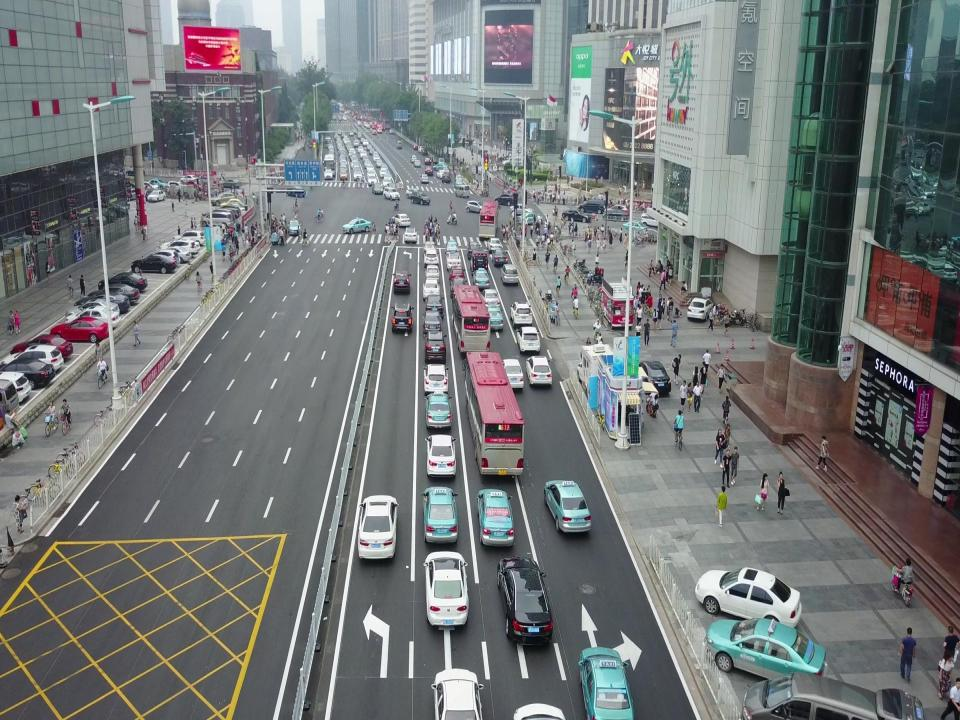bus: (461, 349, 525, 478), (450, 283, 490, 354), (478, 199, 500, 239)
car: (703, 616, 829, 686), (736, 675, 926, 720), (692, 566, 804, 632), (497, 556, 555, 648), (577, 646, 637, 720), (424, 549, 472, 629), (356, 493, 400, 563), (432, 665, 485, 720), (543, 480, 593, 534), (475, 487, 517, 547), (420, 485, 462, 544), (0, 356, 56, 389), (1, 344, 65, 371), (9, 334, 75, 359), (50, 316, 111, 343), (424, 432, 458, 478), (64, 305, 122, 328), (73, 290, 131, 312), (64, 298, 120, 320), (638, 360, 672, 395), (86, 283, 140, 305), (424, 391, 454, 430), (0, 370, 32, 406), (98, 270, 148, 292), (130, 253, 177, 275), (525, 354, 554, 386), (422, 362, 450, 393), (499, 357, 525, 390), (138, 250, 180, 268), (152, 246, 192, 264), (391, 301, 413, 333), (516, 326, 542, 353), (509, 301, 535, 328), (686, 296, 714, 321), (391, 268, 412, 295), (160, 238, 201, 251), (485, 304, 505, 330), (341, 216, 373, 232), (422, 311, 442, 336), (424, 293, 444, 317), (173, 231, 207, 245), (480, 288, 503, 308), (500, 262, 520, 285), (472, 267, 491, 289), (421, 279, 441, 299), (423, 249, 441, 269), (410, 190, 432, 205), (403, 225, 419, 245), (465, 200, 489, 213), (451, 276, 467, 294), (446, 251, 462, 268), (486, 236, 504, 251), (392, 212, 410, 227), (382, 186, 401, 200), (492, 250, 508, 266), (286, 186, 306, 197), (446, 240, 460, 253), (423, 239, 437, 251), (372, 182, 384, 195), (432, 163, 448, 170), (424, 165, 434, 176), (419, 174, 429, 184), (442, 172, 452, 182), (436, 169, 446, 179), (455, 179, 463, 189), (424, 156, 432, 165), (410, 154, 418, 163), (442, 166, 450, 175), (455, 174, 463, 183), (420, 148, 428, 156), (414, 160, 421, 168), (418, 145, 426, 152), (413, 143, 419, 150)
van: (423, 329, 447, 361), (160, 239, 198, 256), (197, 212, 233, 228), (204, 207, 236, 225), (448, 265, 466, 282), (425, 264, 441, 283), (466, 240, 482, 259), (454, 185, 470, 198), (438, 156, 446, 166)
